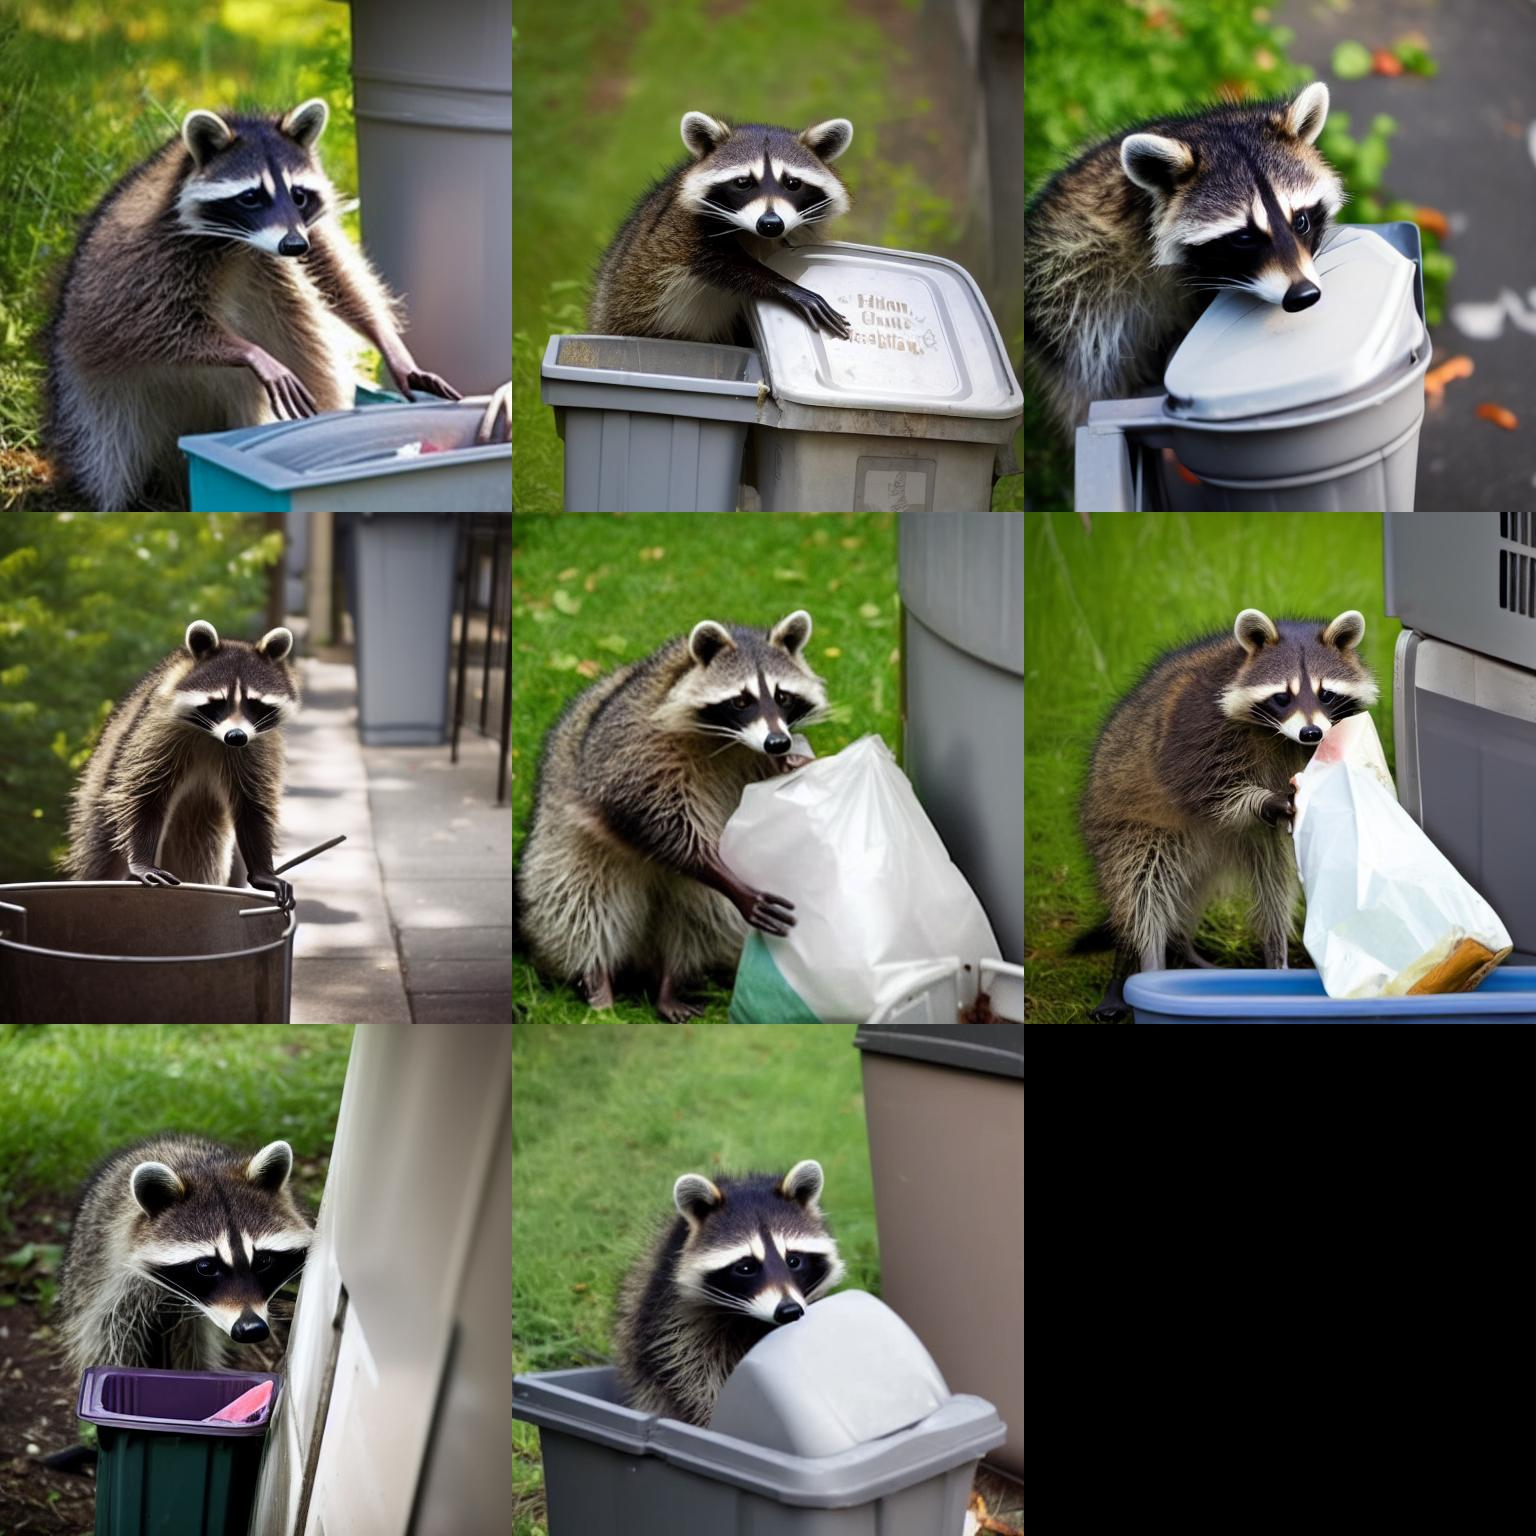raccoon: (48, 93, 357, 498), (520, 601, 840, 971), (1068, 598, 1387, 949), (1030, 68, 1364, 392), (51, 1128, 319, 1383), (70, 605, 312, 885), (588, 96, 872, 328), (625, 1139, 843, 1408)
